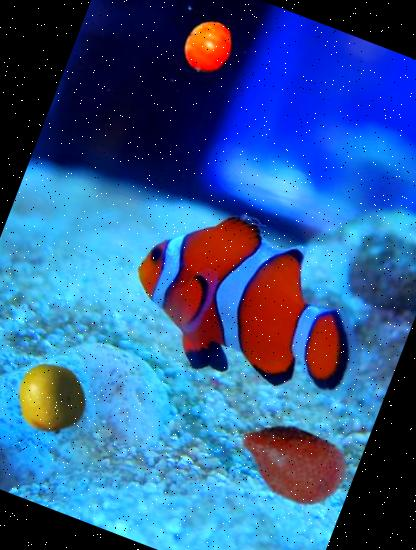Clementine: (172, 13, 242, 82)
Pomelo: (5, 352, 98, 444)
Salak: (216, 390, 364, 536)
